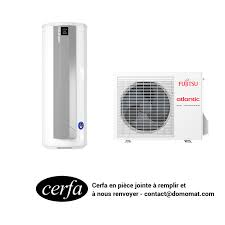ac: (40, 18, 93, 154)
